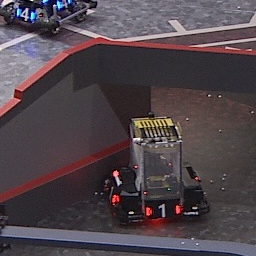Blue: (15, 6, 36, 23)
Red: (146, 204, 180, 218)
Robot: (100, 109, 213, 223), (1, 1, 100, 35)
